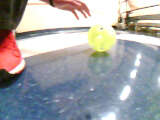Ball: (88, 23, 117, 53)
